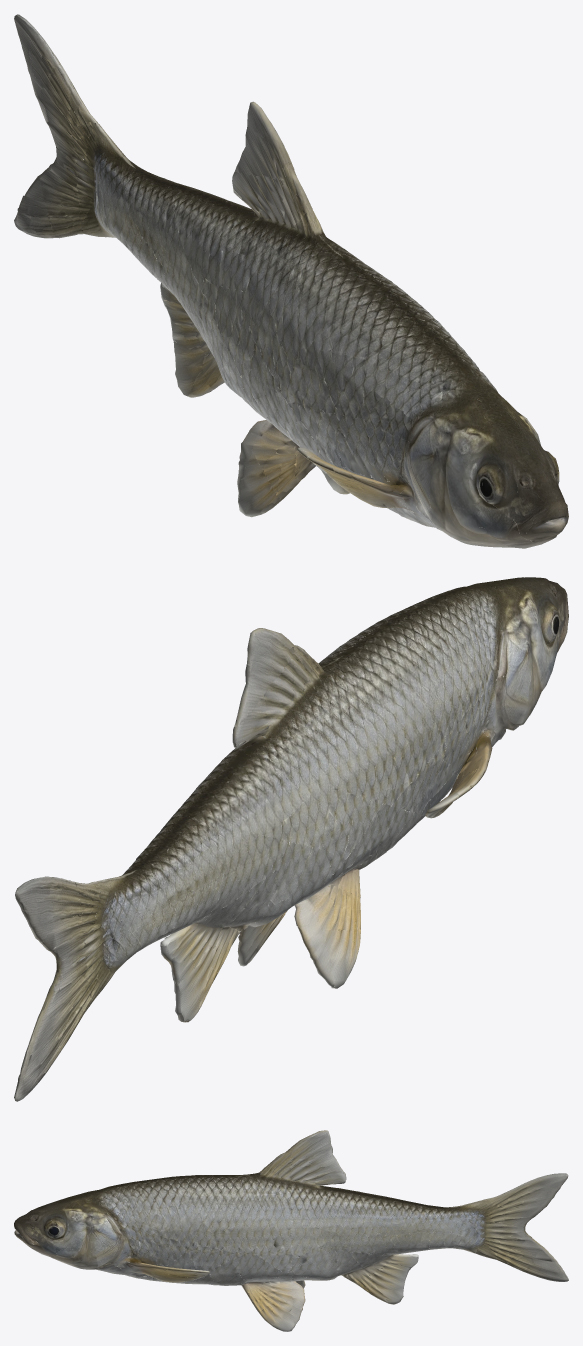
The model's file is jelec.glb.
The picture shows the model from 3 angles, top to bottom: view 1: azimuth 30°, elevation 25°; view 2: azimuth 150°, elevation 25°; view 3: azimuth 270°, elevation 25°; orthographic projection. The views are drawn at different scales.
Visible parts, largest first — view 1: Mesh_0; view 2: Mesh_0; view 3: Mesh_0.
Part boxes in pixels (x1,y1,x2,y2): Mesh_0: (14, 14, 568, 548); Mesh_0: (14, 577, 568, 1101); Mesh_0: (14, 1130, 568, 1331).
Bounding box in the file's own units: 0.3308 × 0.719 × 1.9.
Materials: 1 (1 with a texture image).
